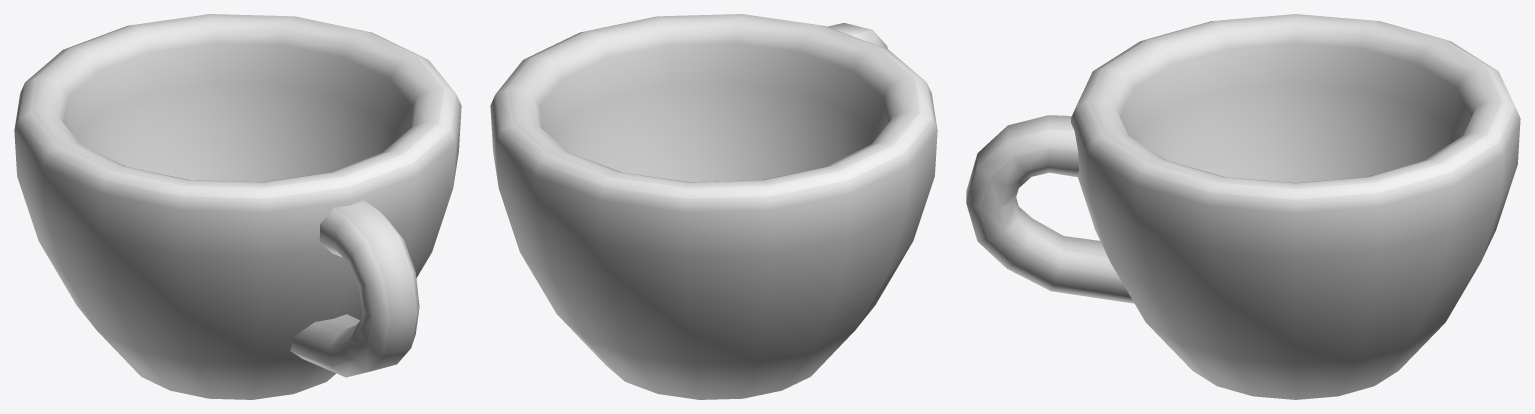
File: cup_006.fbx
3 views of the same model, side by side, from view 1: azimuth 30°, elevation 25°; view 2: azimuth 150°, elevation 25°; view 3: azimuth 270°, elevation 25° (orthographic).
Visible parts, largest first — view 1: cup_006; view 2: cup_006; view 3: cup_006.
Part boxes in pixels (left/top/right/bottom): cup_006: left=14, top=14, right=461, bottom=399; cup_006: left=490, top=14, right=937, bottom=399; cup_006: left=966, top=14, right=1520, bottom=399.
Bounding box in the file's own units: 8.39 × 10.34 × 5.17.
